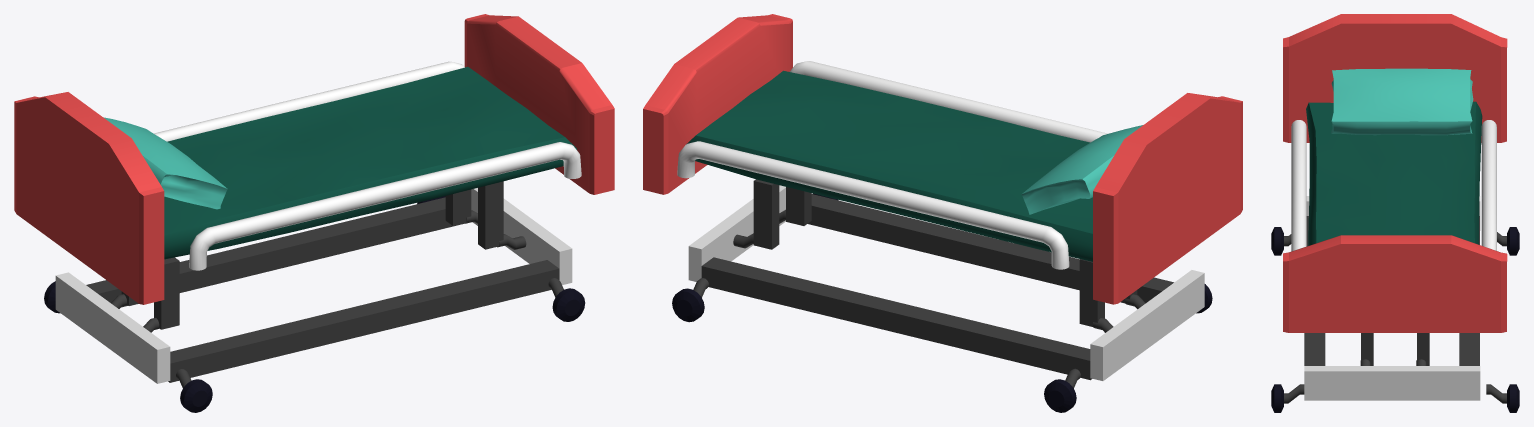
The model's file is bed.fbx.
The picture shows the model from 3 angles, left to right: view 1: azimuth 30°, elevation 25°; view 2: azimuth 150°, elevation 25°; view 3: azimuth 270°, elevation 25°; orthographic projection. The views are drawn at different scales.
Parts seen in each view (by area): view 1: Box014, Box002, Box003, Box011, Box012, Cylinder003, Box007, Box015, Cylinder004, Box008, Box006, Box005 (+3 smaller); view 2: Box014, Box002, Box003, Box012, Box011, Cylinder004, Box007, Cylinder003, Box015, Box008, Box010, Box009 (+3 smaller); view 3: Box003, Box014, Box002, Box015, Box008, Cylinder003, Cylinder004, Box011, Box012, Box006, Box010, Cylinder016 (+3 smaller).
Part boxes in pixels (x1,y1,x2,y2): Box014: (164,66,576,259); Box002: (14,92,164,304); Box003: (464,14,614,194); Box011: (168,260,559,382); Box012: (86,197,464,307); Cylinder003: (189,142,581,270); Box007: (55,272,170,383); Box015: (103,117,227,209); Cylinder004: (154,61,464,141); Box008: (471,188,572,284); Box006: (478,181,503,249); Box005: (154,257,179,329); Box014: (686,70,1092,261); Box002: (1093,93,1242,304); Box003: (643,14,792,194); Box012: (701,257,1092,380); Box011: (808,194,1173,302); Cylinder004: (677,141,1069,269); Box007: (1090,270,1204,380); Cylinder003: (789,61,1107,142); Box015: (1021,125,1142,214); Box008: (688,185,785,281); Box010: (753,179,779,249); Box009: (1079,259,1104,328); Box003: (1283,235,1507,332); Box014: (1306,101,1482,245); Box002: (1283,14,1507,142); Box015: (1331,68,1473,135); Box008: (1304,366,1480,400); Cylinder003: (1291,120,1306,251); Cylinder004: (1481,120,1496,250); Box011: (1304,216,1325,365); Box012: (1459,216,1479,365); Box006: (1361,333,1373,365); Box010: (1417,333,1429,365); Cylinder016: (1507,227,1519,255).
Size of the model in its own units: 168 by 85.71 by 88.14.
